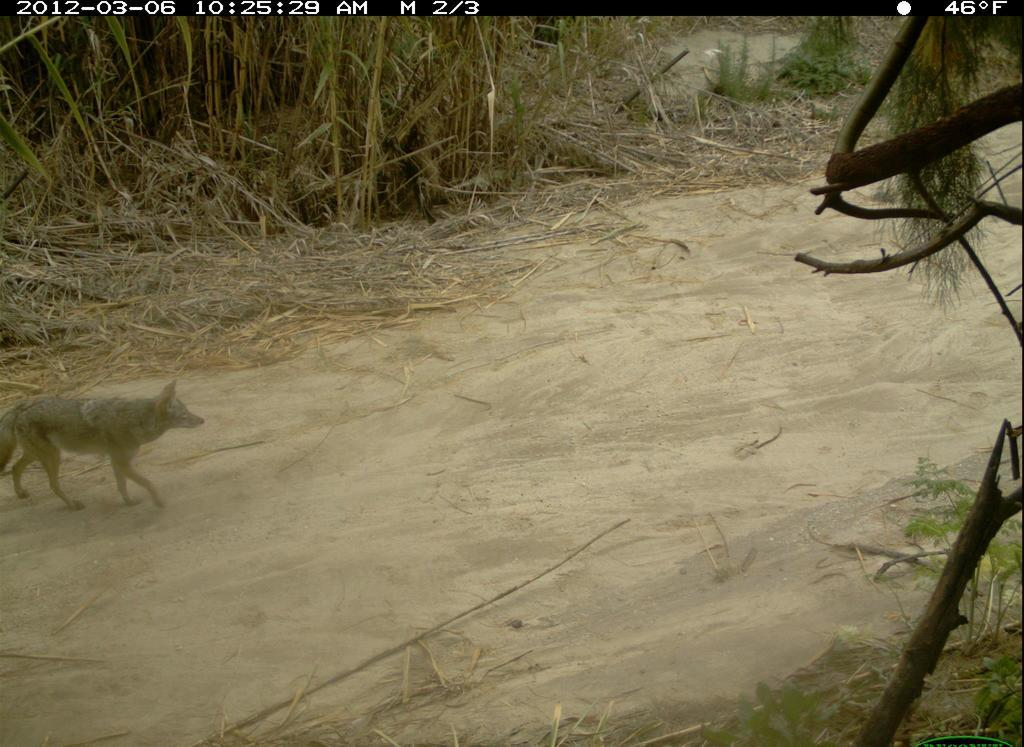coyote: (1, 369, 218, 527)
